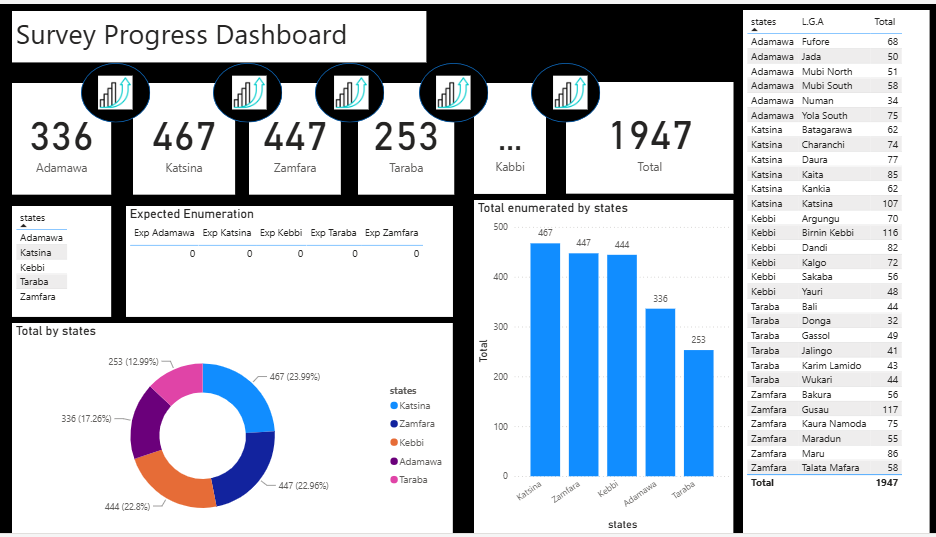

The dashboard page shown, as its layout file describes it:
{"tool":"powerbi","page":{"name":"Page 1","canvas":[1280,720],"ordinal":0},"visuals":[{"type":"columnChart","title":"Total enumerated by states","fields":{"Y":["Submissions.Total enumerated in the five state"],"Category":["Submissions.state_name"]},"box":[649.1,266.3,353.4,454],"z":0},{"type":"card","fields":{"Values":["Submissions.Total enumerated in Katsina"]},"box":[185.3,108,138.7,152.1],"z":1000},{"type":"card","fields":{"Values":["Submissions.Total enumerated in Adamawa"]},"box":[20.9,108,135,152.1],"z":2000},{"type":"card","fields":{"Values":["Submissions.Total enumerated in Kabbi"]},"box":[649.1,108,98.2,150.9],"z":3000},{"type":"card","fields":{"Values":["Submissions.Total enumerated in Taraba"]},"box":[490.8,108,131.3,152.1],"z":4000},{"type":"card","fields":{"Values":["Submissions.Total enumerated in Zamfara"]},"box":[342.3,108,125.2,152.1],"z":5000},{"type":"tableEx","fields":{"Values":["Submissions.state_name"]},"box":[20.9,274.8,135,150.9],"z":6000},{"type":"card","fields":{"Values":["Submissions.Total"]},"box":[774.2,106.7,228.2,152.1],"z":7000},{"type":"textbox","box":[20.9,9.8,564.4,69.9],"z":8000},{"type":"shape","box":[114.1,79.8,94.5,81],"z":9000},{"type":"shape","box":[294.5,79.8,94.5,81],"z":10000},{"type":"shape","box":[433.1,79.8,94.5,81],"z":11000},{"type":"shape","box":[574.2,79.8,94.5,81],"z":12000},{"type":"shape","box":[726.4,79.8,94.5,81],"z":13000},{"type":"image","box":[108,92,106.7,56.4],"z":14000},{"type":"image","box":[289.6,92,106.7,56.4],"z":15000},{"type":"image","box":[428.2,92,106.7,56.4],"z":16000},{"type":"image","box":[568.1,92,106.7,56.4],"z":17000},{"type":"image","box":[726.4,92,106.7,56.4],"z":18000},{"type":"tableEx","fields":{"Values":["Submissions.state_name","Submissions.L.G.A","Submissions.Total"]},"box":[1016,8.6,254,711.7],"z":19000},{"type":"donutChart","fields":{"Category":["Submissions.state_name"],"Y":["Submissions.Total"]},"box":[20.9,434.4,600,285.9],"z":20000},{"type":"tableEx","title":"Expected Enumeration ","fields":{"Values":["Submissions.Exp Adamawa","Submissions.Exp Katsina","Submissions.Exp Kebbi","Submissions.Exp Taraba","Submissions.Exp Zamfara"]},"box":[175.5,274.8,445.4,150.9],"z":21000}]}

Visuals, with their boxes in screenshot pixels (x1, y1, x2, y2), scaled from the page's 1280x720 canvas onto the 936x537 screenshot:
"Total enumerated by states" columnChart: 475 199 733 536
card - Submissions.Total enumerated in Katsina: 136 81 237 194
card - Submissions.Total enumerated in Adamawa: 15 81 114 194
card - Submissions.Total enumerated in Kabbi: 475 81 546 193
card - Submissions.Total enumerated in Taraba: 359 81 455 194
card - Submissions.Total enumerated in Zamfara: 250 81 342 194
tableEx - Submissions.state_name: 15 205 114 318
card - Submissions.Total: 566 80 733 193
textbox: 15 7 428 59
shape: 83 60 153 120
shape: 215 60 284 120
shape: 317 60 386 120
shape: 420 60 489 120
shape: 531 60 600 120
image: 79 69 157 111
image: 212 69 290 111
image: 313 69 391 111
image: 415 69 493 111
image: 531 69 609 111
tableEx - Submissions.state_name x Submissions.L.G.A: 743 6 929 536
donutChart - Submissions.state_name x Submissions.Total: 15 324 454 536
"Expected Enumeration " tableEx: 128 205 454 318
